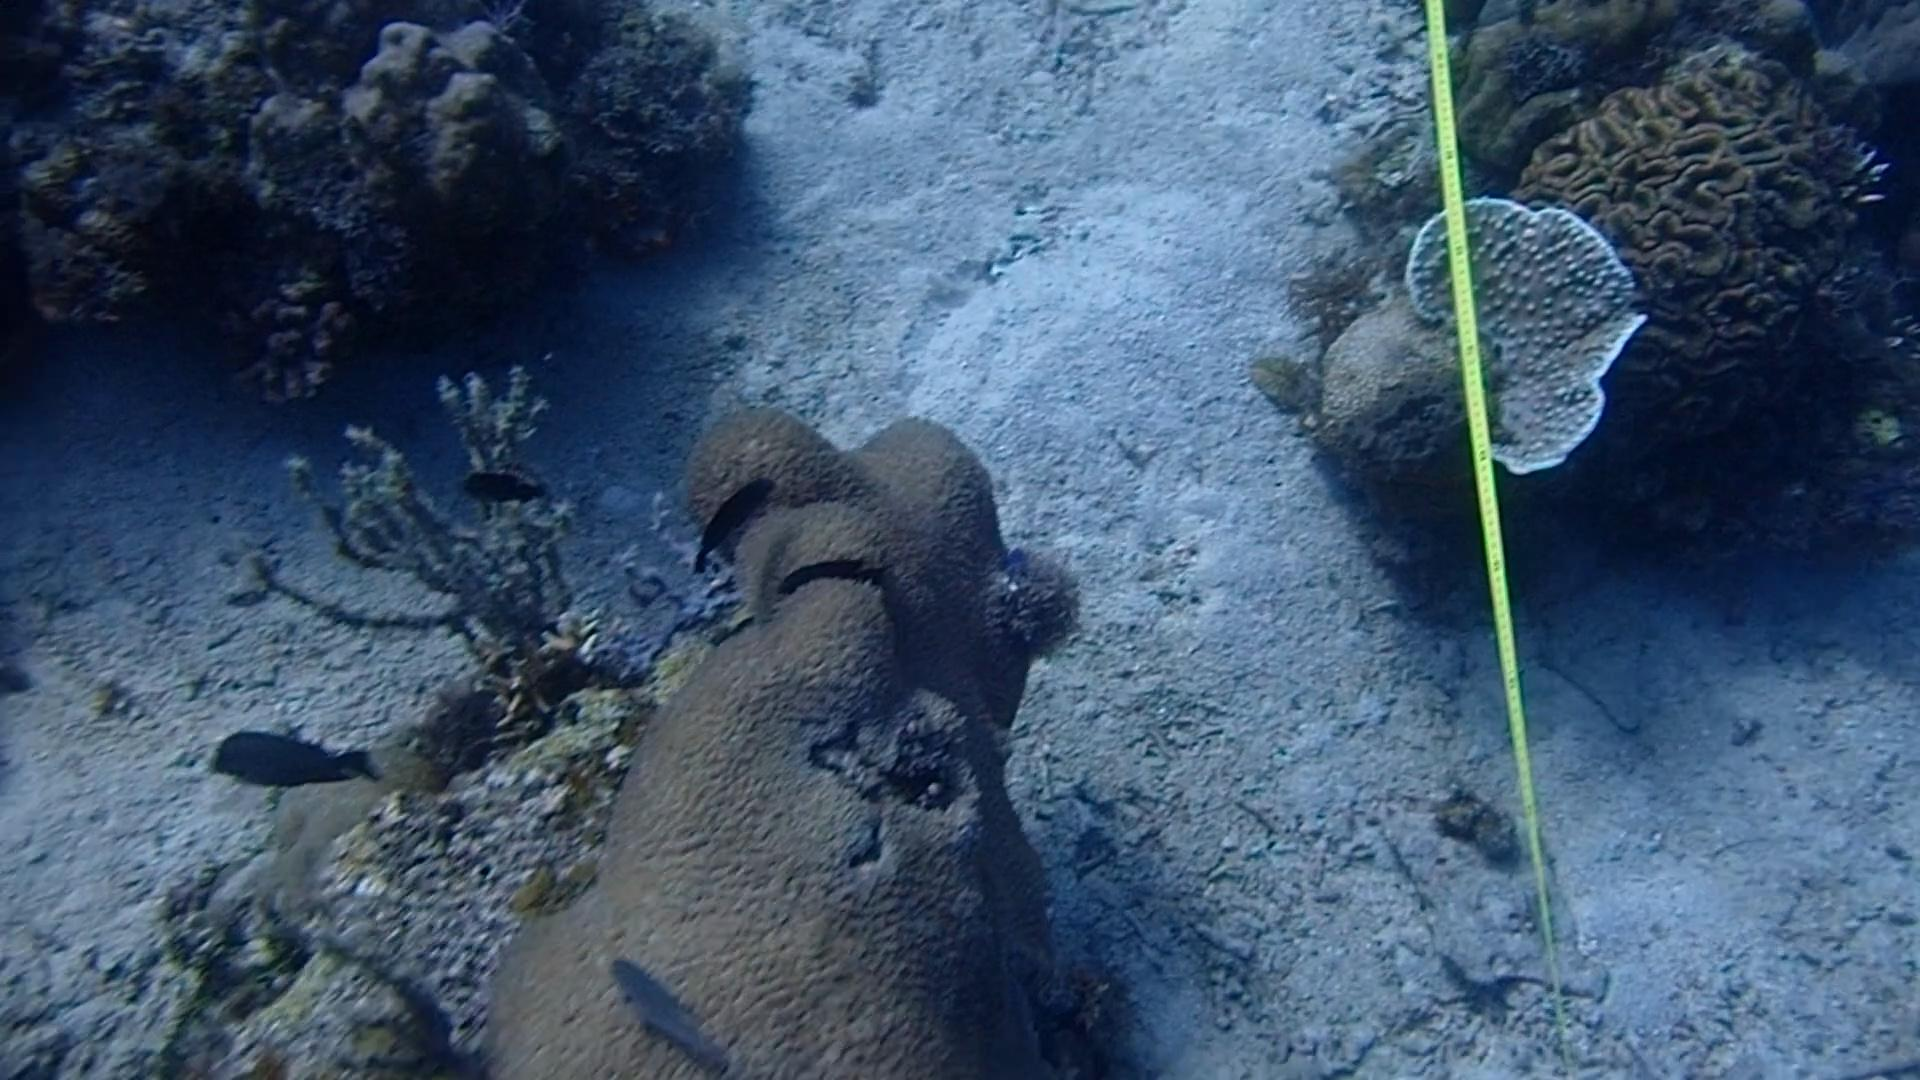Big Dark Blue Fish: (204, 720, 380, 803)
Dark Fish: (686, 464, 785, 559), (765, 538, 891, 611), (443, 455, 555, 517)
Light Fish: (603, 940, 737, 1073)
